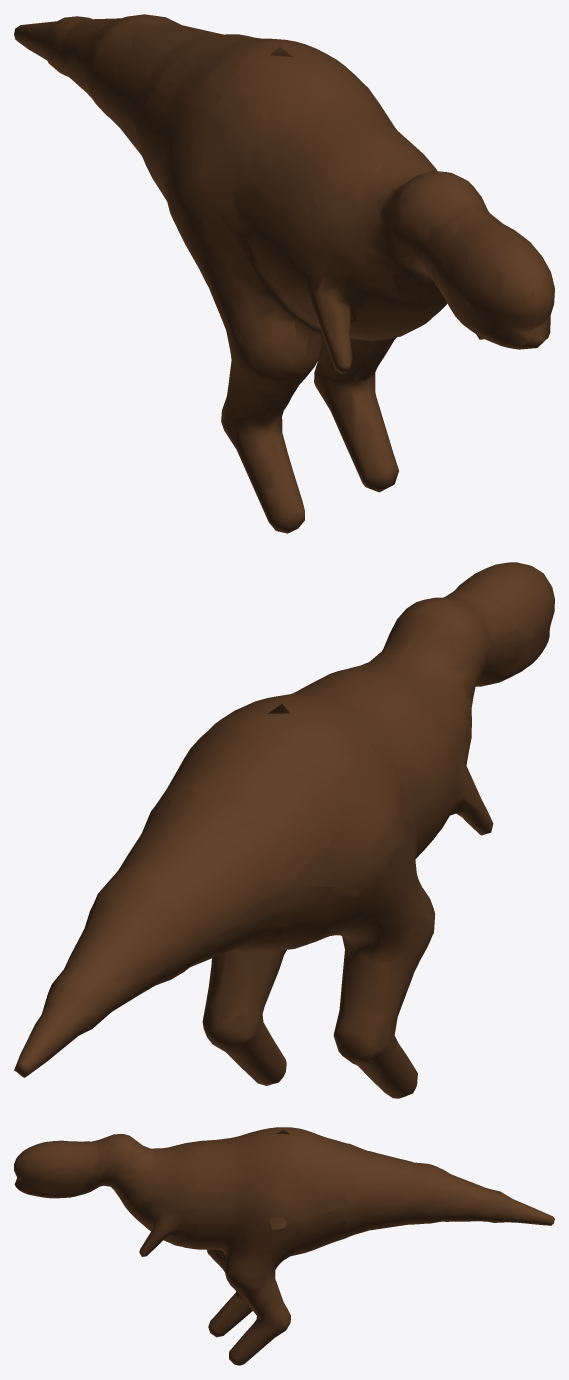
Rendered from sdf_theropod.obj.
3 views of the same model, one above another, from view 1: azimuth 30°, elevation 25°; view 2: azimuth 150°, elevation 25°; view 3: azimuth 270°, elevation 25° (orthographic). The views are drawn at different scales.
Parts seen in each view (by area): view 1: sdf_theropod; view 2: sdf_theropod; view 3: sdf_theropod.
Boxes of the visible parts, box(x1,y1,x2,y2) form: sdf_theropod: box(14, 14, 554, 533); sdf_theropod: box(14, 562, 554, 1098); sdf_theropod: box(14, 1127, 554, 1365).
Size of the model in its own units: 1.51 by 2.86 by 6.42.
